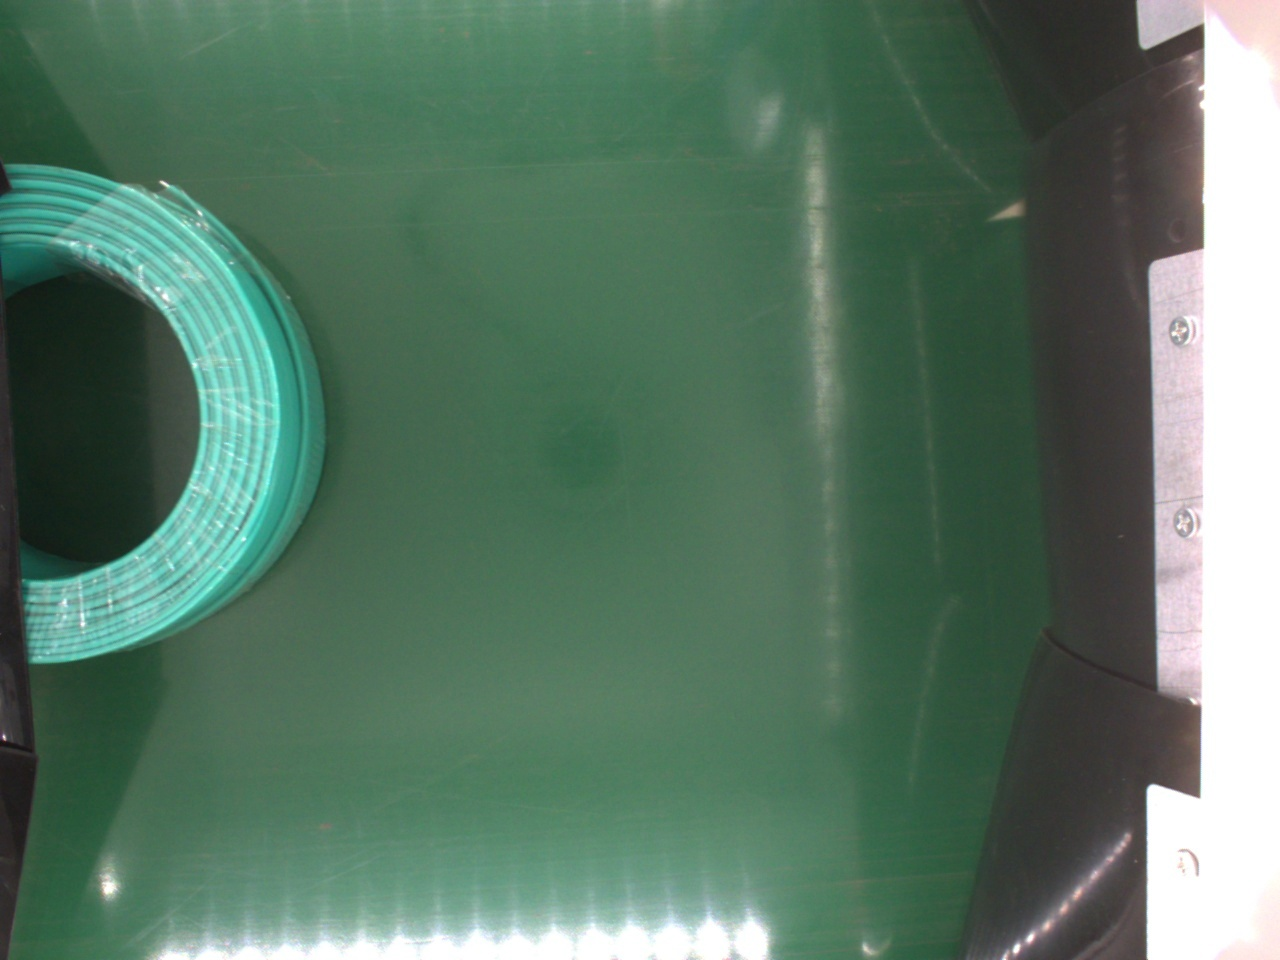green: (13, 159, 327, 678)
